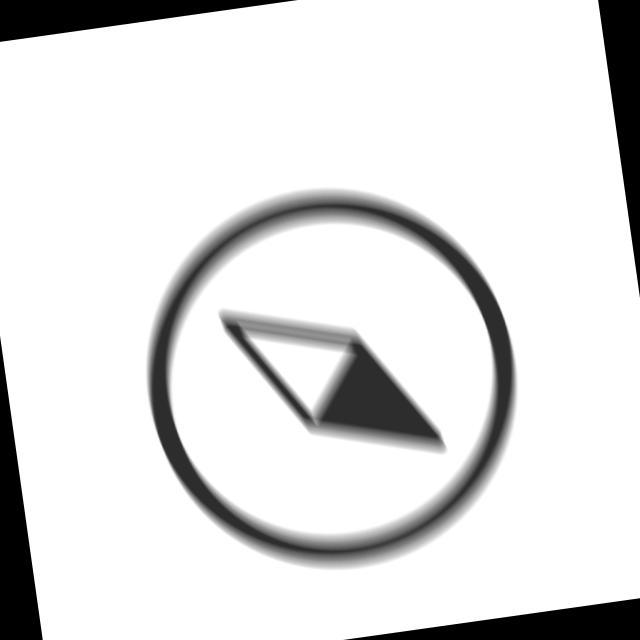compass: (101, 146, 553, 610)
